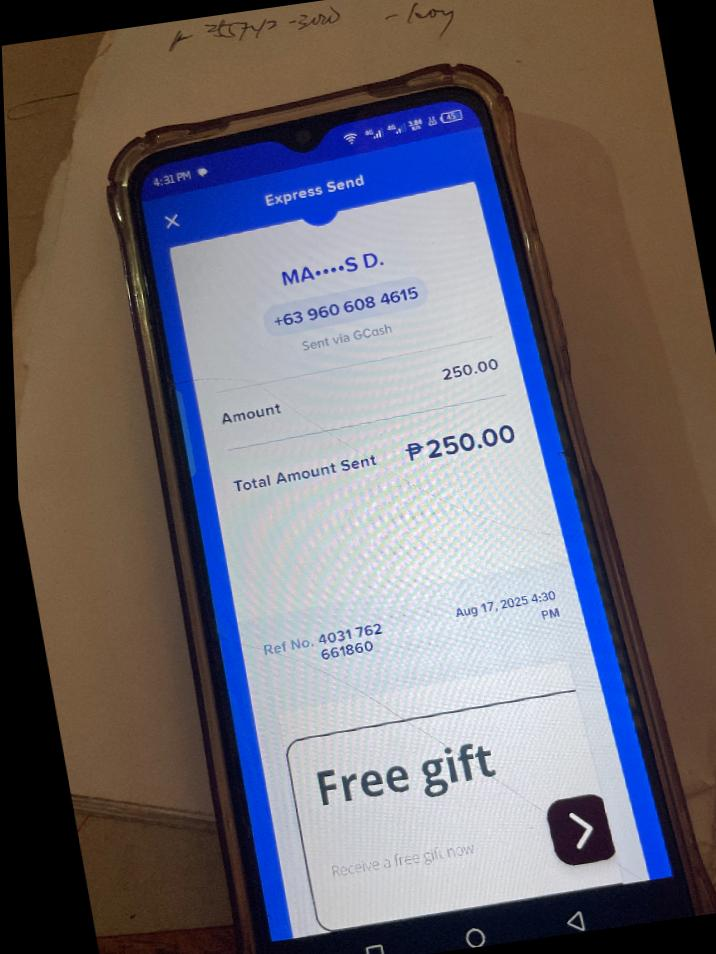Receipt: (141, 127, 674, 942)
